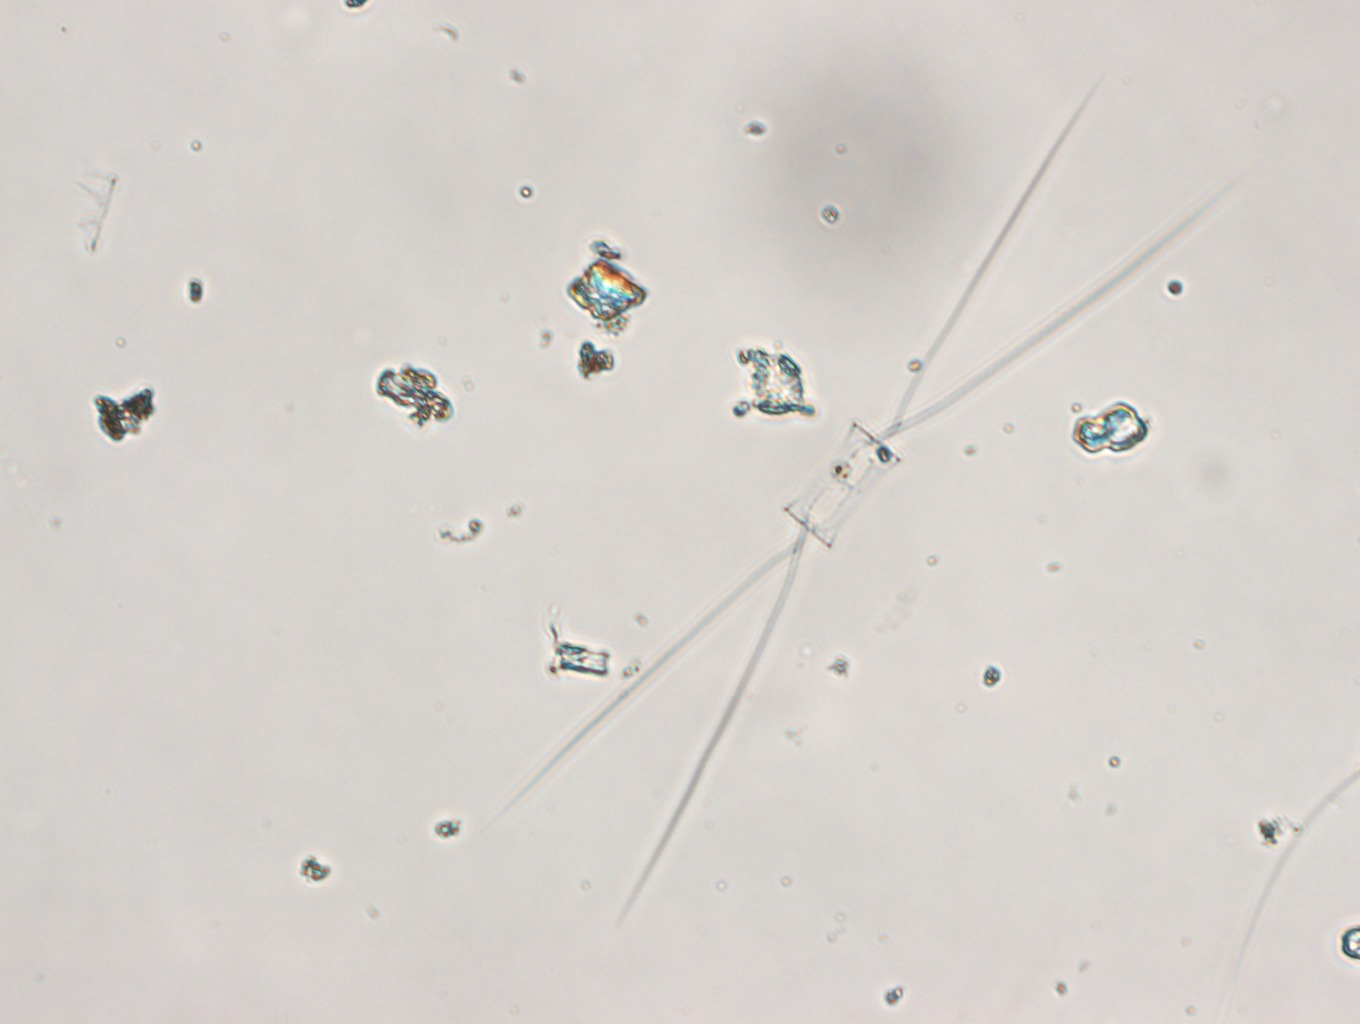chaetoceros: (528, 95, 1203, 905)
